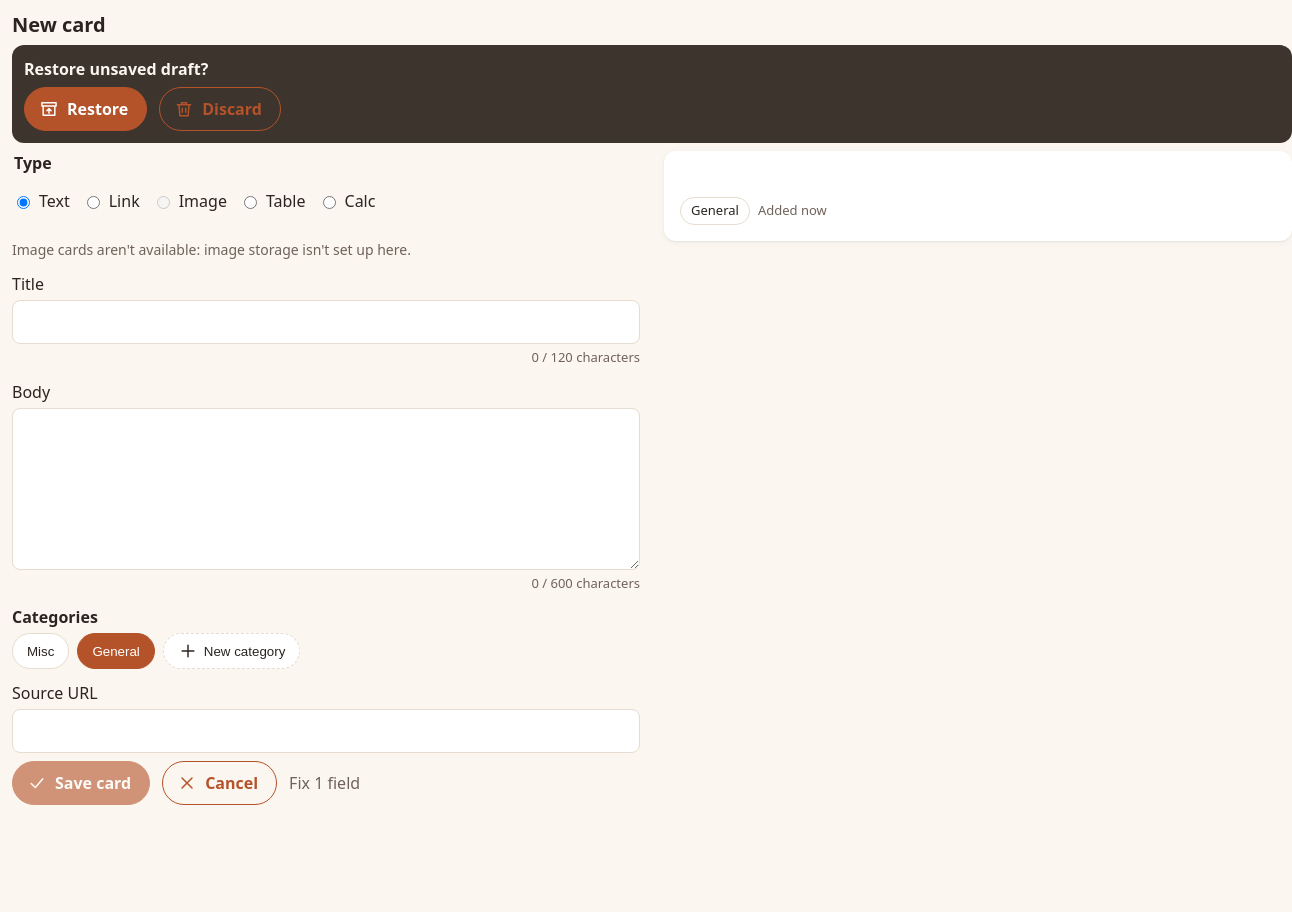
CardEditor: unsaved drafts (D145) › restoring a draft of another type switches the picker and the URL
Step 1. Click the button "Restore" → coordinates (86, 109), box x1=24 y1=87 x2=147 y2=131
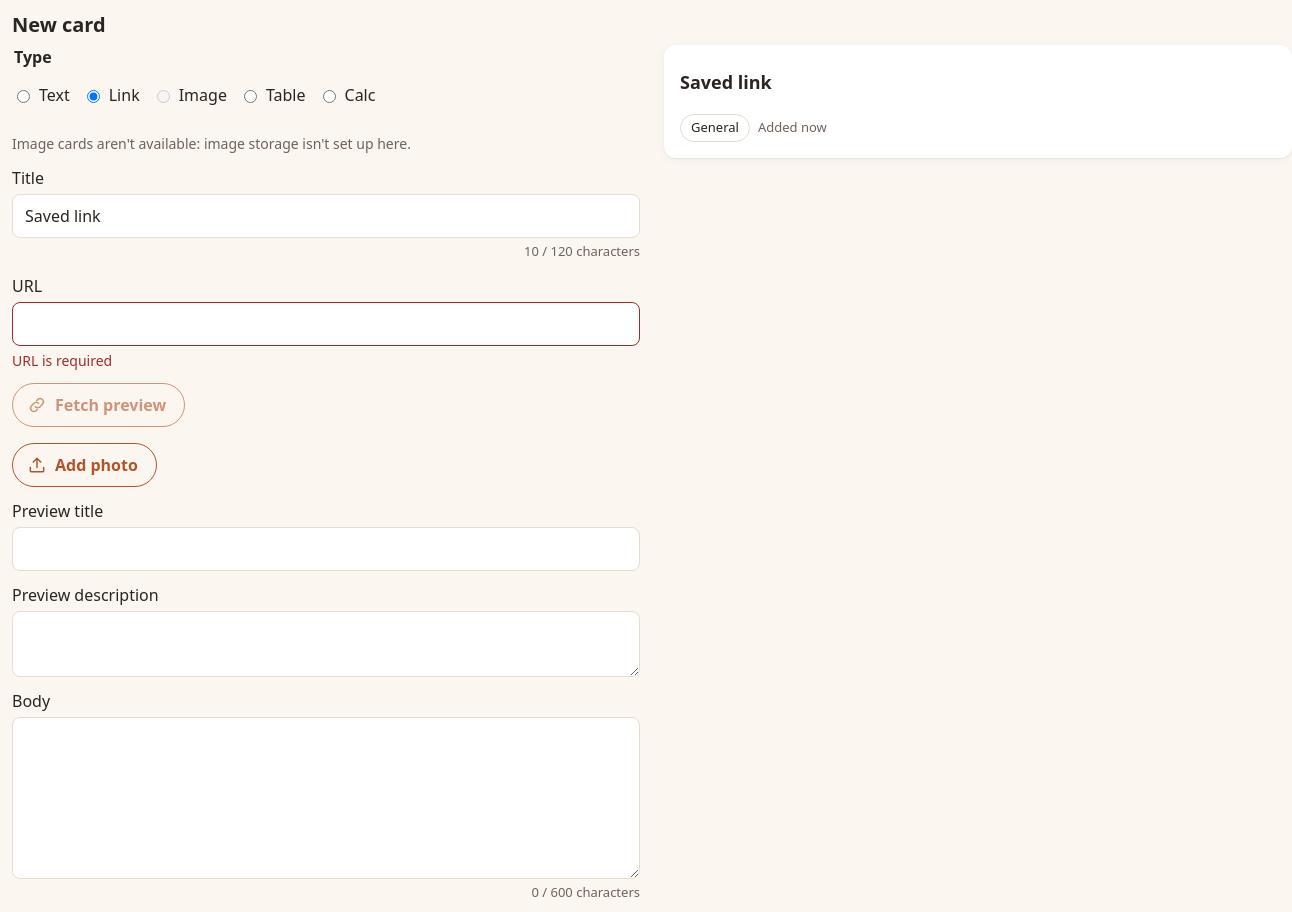
Expected: the field labelled "URL" is shown, x1=12 y1=302 x2=640 y2=346
